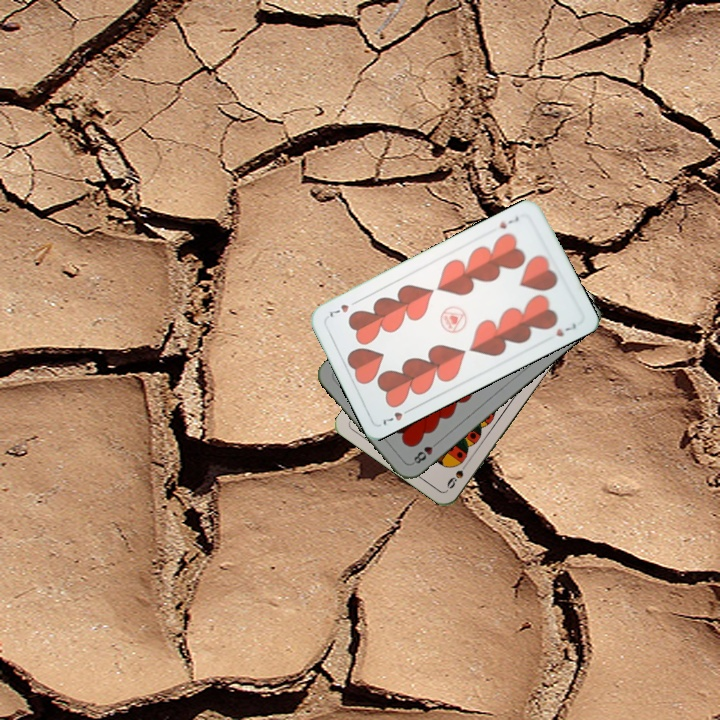H7: (379, 404, 415, 428), (494, 212, 522, 231)
H8: (408, 437, 442, 467)
S9: (442, 456, 472, 492)
